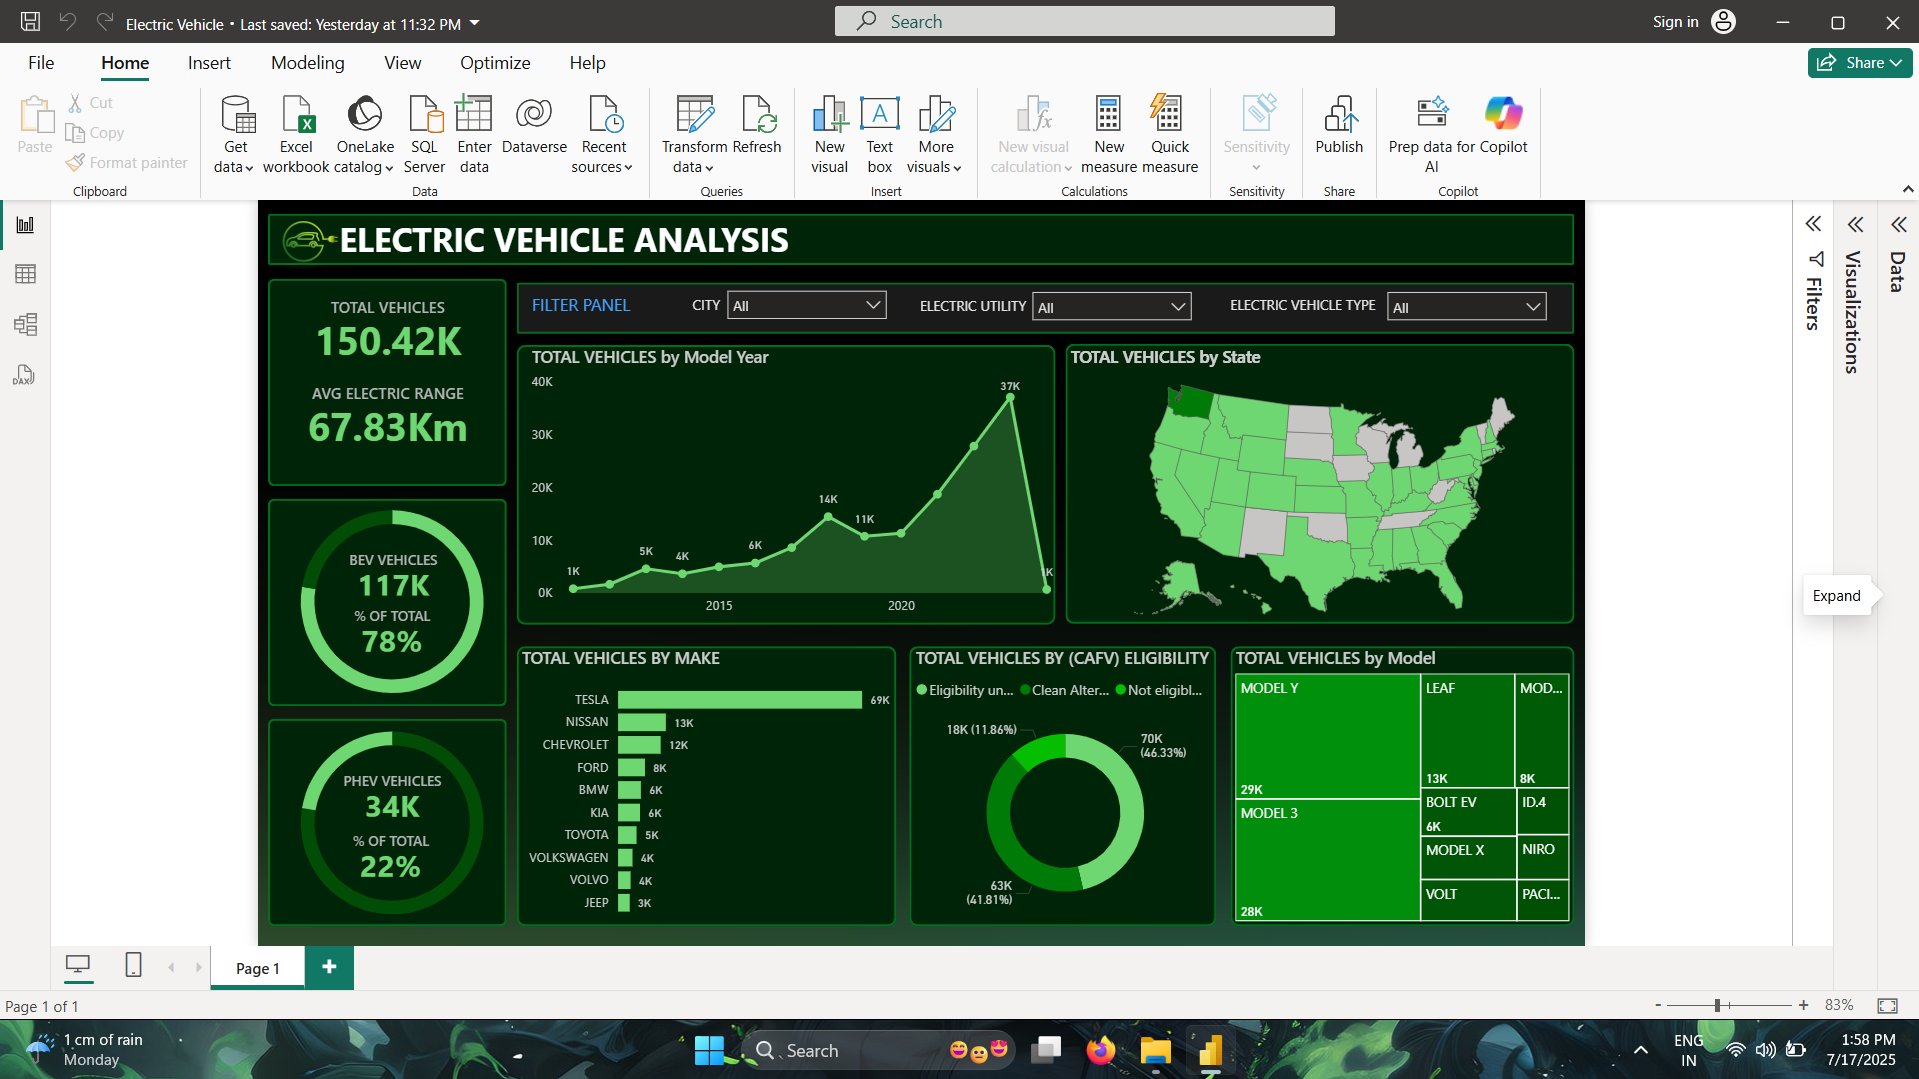

This screenshot's page, from the dashboard's own definition file:
{"tool":"powerbi","page":{"name":"Page 1","canvas":[1280,720],"ordinal":0},"visuals":[{"type":"shape","box":[9.7,13.3,1260.7,49.5],"z":0},{"type":"textbox","box":[73.6,10.9,452.4,54.3],"z":1000},{"type":"shape","box":[9.7,76,230.4,200.3],"z":2000},{"type":"card","title":"TOTAL VEHICLES","fields":{"Values":["Electric_Vehicle_Population_Data.TOTAL VEHICLES"]},"box":[48.3,92.9,154.4,63.9],"z":3000},{"type":"card","title":"AVG ELECTRIC RANGE","fields":{"Values":["Electric_Vehicle_Population_Data.AVG RANGE"]},"box":[39.8,176.1,171.3,63.9],"z":4000},{"type":"shape","box":[9.7,500.7,230.4,200.3],"z":5000},{"type":"shape","box":[9.7,288.3,230.4,200.3],"z":6000},{"type":"donutChart","fields":{"Category":["Electric_Vehicle_Population_Data.Electric Vehicle Type"],"Y":["Electric_Vehicle_Population_Data.TOTAL VEHICLES"]},"box":[0,273.1,259.3,230.5],"z":7000},{"type":"card","title":"BEV VEHICLES","fields":{"Values":["Electric_Vehicle_Population_Data.BEV VECHICLES"]},"box":[82.3,337.6,97.4,49.4],"z":8000},{"type":"card","title":"% OF TOTAL","fields":{"Values":["Electric_Vehicle_Population_Data.% OF BEV"]},"box":[81,392.5,97.4,49.4],"z":9000},{"type":"donutChart","fields":{"Category":["Electric_Vehicle_Population_Data.Electric Vehicle Type"],"Y":["Electric_Vehicle_Population_Data.TOTAL VEHICLES"]},"box":[0,485.8,259.3,230.5],"z":10000},{"type":"shape","box":[249.7,430.9,366.4,270.3],"z":10500},{"type":"card","title":"PHEV VEHICLES","fields":{"Values":["Electric_Vehicle_Population_Data.PHEV VECHICLES"]},"box":[74.1,551.6,112.5,49.4],"z":11000},{"type":"card","title":"% OF TOTAL","fields":{"Values":["Electric_Vehicle_Population_Data.% OF PHEV"]},"box":[79.6,609.3,97.4,49.4],"z":12000},{"type":"shape","box":[249.7,79.6,1020.6,49.5],"z":13000},{"type":"shape","box":[249.7,140,520,270],"z":14000},{"type":"areaChart","fields":{"Category":["Electric_Vehicle_Population_Data.Model Year"],"Y":["Electric_Vehicle_Population_Data.TOTAL VEHICLES"]},"box":[259.3,140,520.1,270.3],"z":15000},{"type":"shape","box":[779.4,138.6,491.3,270.3],"z":16000},{"type":"shapeMap","fields":{"Category":["Electric_Vehicle_Population_Data.State"],"Value":["Electric_Vehicle_Population_Data.TOTAL VEHICLES"]},"box":[779.4,140,500.9,277.2],"z":17000},{"type":"shapeMap","fields":{"Category":["Electric_Vehicle_Population_Data.State"],"Value":["Electric_Vehicle_Population_Data.TOTAL VEHICLES"]},"box":[779.1,140,500.9,277.2],"z":18000},{"type":"barChart","title":"TOTAL VEHICLES BY MAKE","fields":{"Category":["Electric_Vehicle_Population_Data.Make"],"Y":["Electric_Vehicle_Population_Data.TOTAL VEHICLES"]},"box":[249.7,430.9,366.4,270.3],"z":20000},{"type":"shape","box":[628.5,430.9,296.4,270.3],"z":20001},{"type":"donutChart","title":"TOTAL VEHICLES BY (CAFV) ELIGIBILITY","fields":{"Category":["Electric_Vehicle_Population_Data.Clean Alternative Fuel Vehicle (CAFV) Eligibility"],"Y":["Electric_Vehicle_Population_Data.TOTAL VEHICLES"]},"box":[629.8,430.9,299.1,270.3],"z":20002},{"type":"shape","box":[938.6,430.9,332.1,270.3],"z":20003},{"type":"treemap","fields":{"Group":["Electric_Vehicle_Population_Data.Model"],"Values":["Electric_Vehicle_Population_Data.TOTAL VEHICLES"]},"box":[938.6,430.9,332.1,270.3],"z":20004},{"type":"textbox","box":[259.4,84.5,118.2,41],"z":20005},{"type":"slicer","fields":{"Values":["Electric_Vehicle_Population_Data.City"]},"box":[442.8,77.2,173.7,39.8],"z":20006},{"type":"textbox","box":[399.3,86.9,66.4,35],"z":20007},{"type":"slicer","fields":{"Values":["Electric_Vehicle_Population_Data.Electric Utility"]},"box":[737.1,78.4,173.7,39.8],"z":20008},{"type":"textbox","box":[620.1,88.1,139.9,35],"z":20009},{"type":"slicer","fields":{"Values":["Electric_Vehicle_Population_Data.Electric Vehicle Type"]},"box":[1079.8,78.4,173.7,39.8],"z":20010},{"type":"textbox","box":[929,86.9,159.3,35],"z":20011},{"type":"image","box":[16.9,10.9,65.1,65.1],"z":20012}]}

Visuals, with their boxes on the page's 1280x720 design canvas (x1, y1, x2, y2). These are canvas units, not pixel positions in the 1919x1079 screenshot, which may show the page scaled, cropped or inside an application window:
shape: locate(10, 13, 1270, 63)
textbox: locate(74, 11, 526, 65)
shape: locate(10, 76, 240, 276)
"TOTAL VEHICLES" card: locate(48, 93, 203, 157)
"AVG ELECTRIC RANGE" card: locate(40, 176, 211, 240)
shape: locate(10, 501, 240, 701)
shape: locate(10, 288, 240, 489)
donutChart - Electric_Vehicle_Population_Data.Electric Vehicle Type x Electric_Vehicle_Population_Data.TOTAL VEHICLES: locate(0, 273, 259, 504)
"BEV VEHICLES" card: locate(82, 338, 180, 387)
"% OF TOTAL" card: locate(81, 392, 178, 442)
donutChart - Electric_Vehicle_Population_Data.Electric Vehicle Type x Electric_Vehicle_Population_Data.TOTAL VEHICLES: locate(0, 486, 259, 716)
shape: locate(250, 431, 616, 701)
"PHEV VEHICLES" card: locate(74, 552, 187, 601)
"% OF TOTAL" card: locate(80, 609, 177, 659)
shape: locate(250, 80, 1270, 129)
shape: locate(250, 140, 770, 410)
areaChart - Electric_Vehicle_Population_Data.Model Year x Electric_Vehicle_Population_Data.TOTAL VEHICLES: locate(259, 140, 779, 410)
shape: locate(779, 139, 1271, 409)
shapeMap - Electric_Vehicle_Population_Data.State x Electric_Vehicle_Population_Data.TOTAL VEHICLES: locate(779, 140, 1280, 417)
shapeMap - Electric_Vehicle_Population_Data.State x Electric_Vehicle_Population_Data.TOTAL VEHICLES: locate(779, 140, 1280, 417)
"TOTAL VEHICLES BY MAKE" barChart: locate(250, 431, 616, 701)
shape: locate(628, 431, 925, 701)
"TOTAL VEHICLES BY (CAFV) ELIGIBILITY" donutChart: locate(630, 431, 929, 701)
shape: locate(939, 431, 1271, 701)
treemap - Electric_Vehicle_Population_Data.Model x Electric_Vehicle_Population_Data.TOTAL VEHICLES: locate(939, 431, 1271, 701)
textbox: locate(259, 84, 378, 126)
slicer - Electric_Vehicle_Population_Data.City: locate(443, 77, 616, 117)
textbox: locate(399, 87, 466, 122)
slicer - Electric_Vehicle_Population_Data.Electric Utility: locate(737, 78, 911, 118)
textbox: locate(620, 88, 760, 123)
slicer - Electric_Vehicle_Population_Data.Electric Vehicle Type: locate(1080, 78, 1254, 118)
textbox: locate(929, 87, 1088, 122)
image: locate(17, 11, 82, 76)
